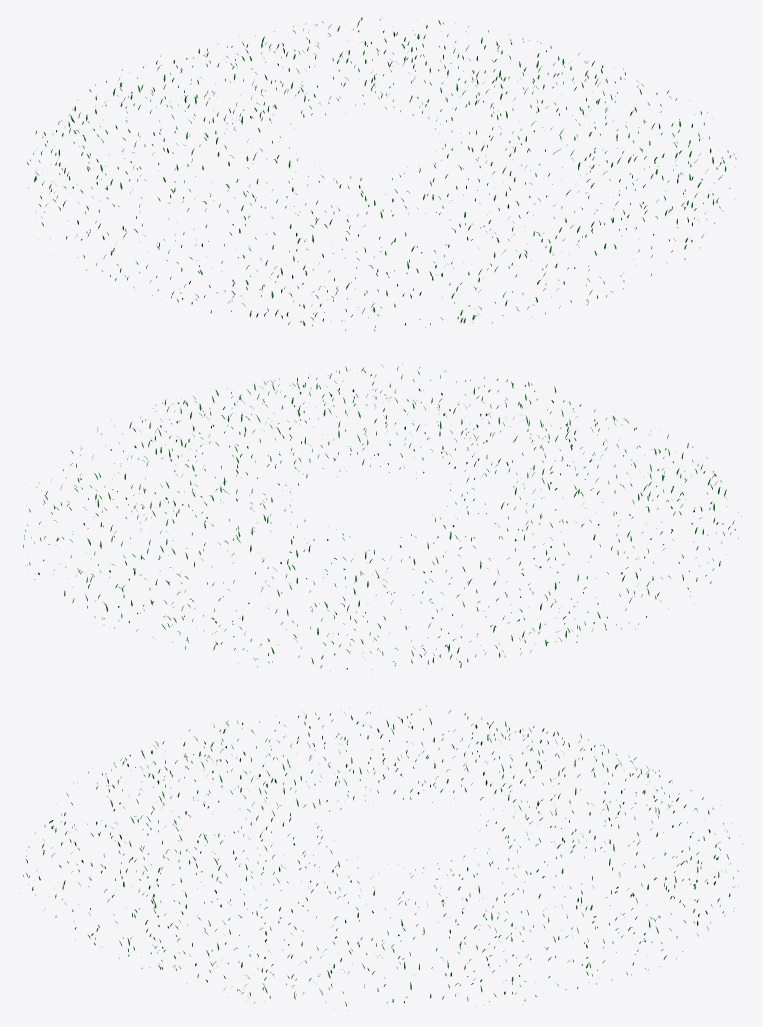
Rendered from 02_Grass16k_01.fbx.
3 renders of one model, top to bottom at view 1: azimuth 30°, elevation 25°; view 2: azimuth 150°, elevation 25°; view 3: azimuth 270°, elevation 25°, orthographic.
Parts seen in each view (by area): view 1: Grass6k_geo; view 2: Grass6k_geo; view 3: Grass6k_geo.
Boxes of the visible parts, <box> form: Grass6k_geo: <box>27,17,736,330</box>; Grass6k_geo: <box>23,364,741,671</box>; Grass6k_geo: <box>20,705,742,1006</box>.
Size of the model in its own units: 4555 by 251 by 4573.
Materials: 1 (1 with a texture image).
